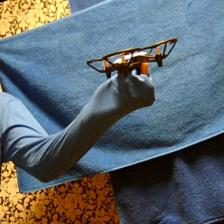drone: (86, 36, 178, 78)
